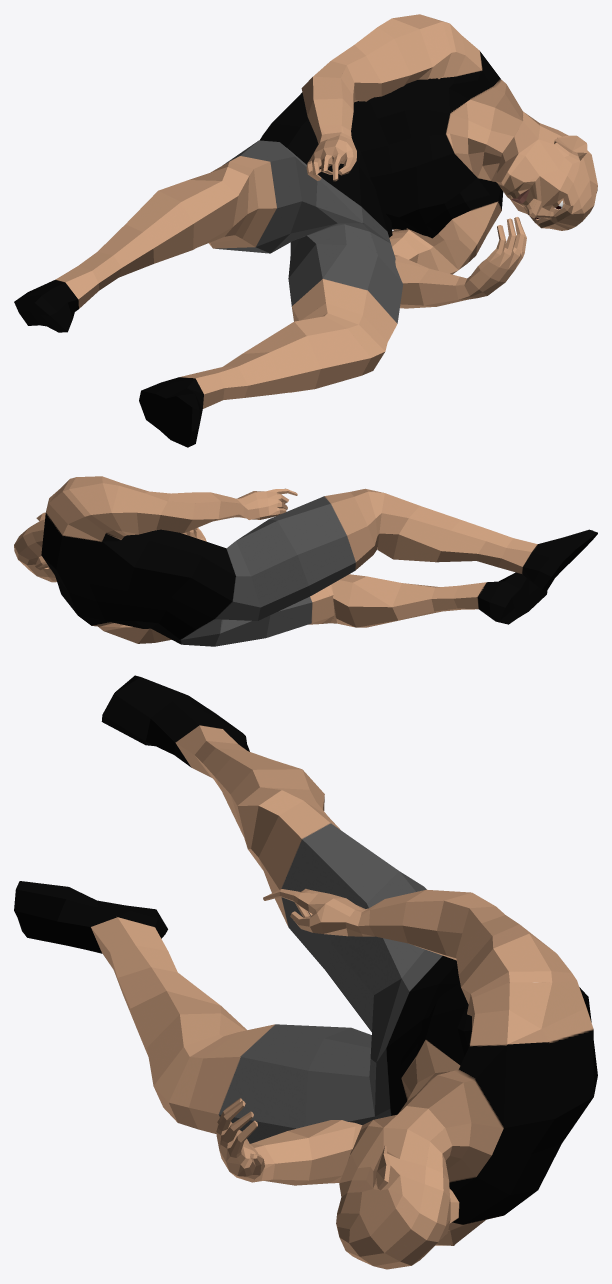
Rendered from PlayerDead(58).obj.
3 renders of one model, top to bottom at view 1: azimuth 30°, elevation 25°; view 2: azimuth 150°, elevation 25°; view 3: azimuth 270°, elevation 25°, orthographic. The views are drawn at different scales.
Visible parts, largest first — view 1: Plane002; view 2: Plane002; view 3: Plane002.
Boxes of the visible parts, <box> form: Plane002: <box>14,14,597,447</box>; Plane002: <box>14,476,597,646</box>; Plane002: <box>14,675,597,1269</box>.
Size of the model in its own units: 1631 by 552 by 944.
